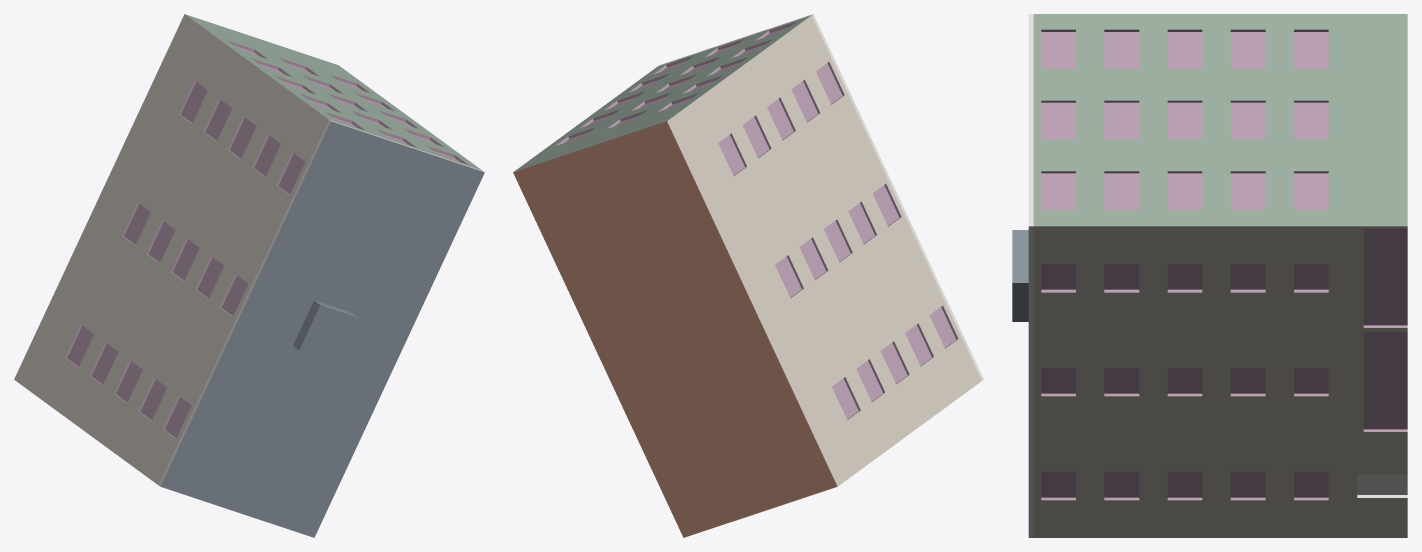
File: doitt-460555__lod_0.glb
The picture shows the model from 3 angles, left to right: view 1: azimuth 30°, elevation 25°; view 2: azimuth 150°, elevation 25°; view 3: azimuth 270°, elevation 25°; orthographic projection. The views are drawn at different scales.
Bounding box in the file's own units: 28.03 × 34.06 × 22.84.
